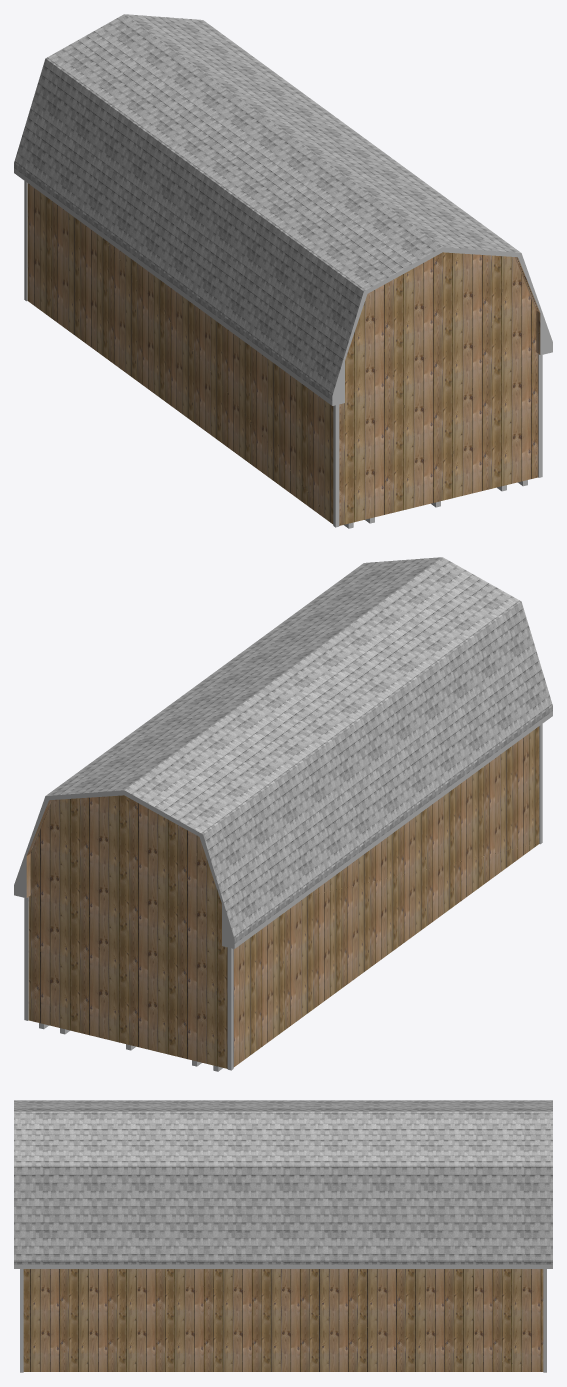
The model's file is Two Story Gambrel_14x36.obj.
3 renders of one model, top to bottom at view 1: azimuth 30°, elevation 25°; view 2: azimuth 150°, elevation 25°; view 3: azimuth 270°, elevation 25°, orthographic. The views are drawn at different scales.
Parts seen in each view (by area): view 1: Roof, Shed, Sides, Trim; view 2: Roof, Shed, Sides, Trim; view 3: Roof, Shed, Sides, Trim.
Boxes of the visible parts, left/top/right/bottom form: Roof: left=14, top=14, right=520, bottom=400; Shed: left=27, top=183, right=540, bottom=525; Sides: left=14, top=168, right=552, bottom=405; Trim: left=24, top=181, right=542, bottom=527; Roof: left=46, top=557, right=552, bottom=943; Shed: left=26, top=726, right=539, bottom=1068; Sides: left=14, top=711, right=552, bottom=948; Trim: left=24, top=724, right=542, bottom=1070; Roof: left=14, top=1100, right=552, bottom=1264; Shed: left=23, top=1269, right=543, bottom=1371; Sides: left=14, top=1264, right=552, bottom=1268; Trim: left=20, top=1269, right=546, bottom=1372.
Bounding box in the file's own units: 4.51 × 5.14 × 11.28.
